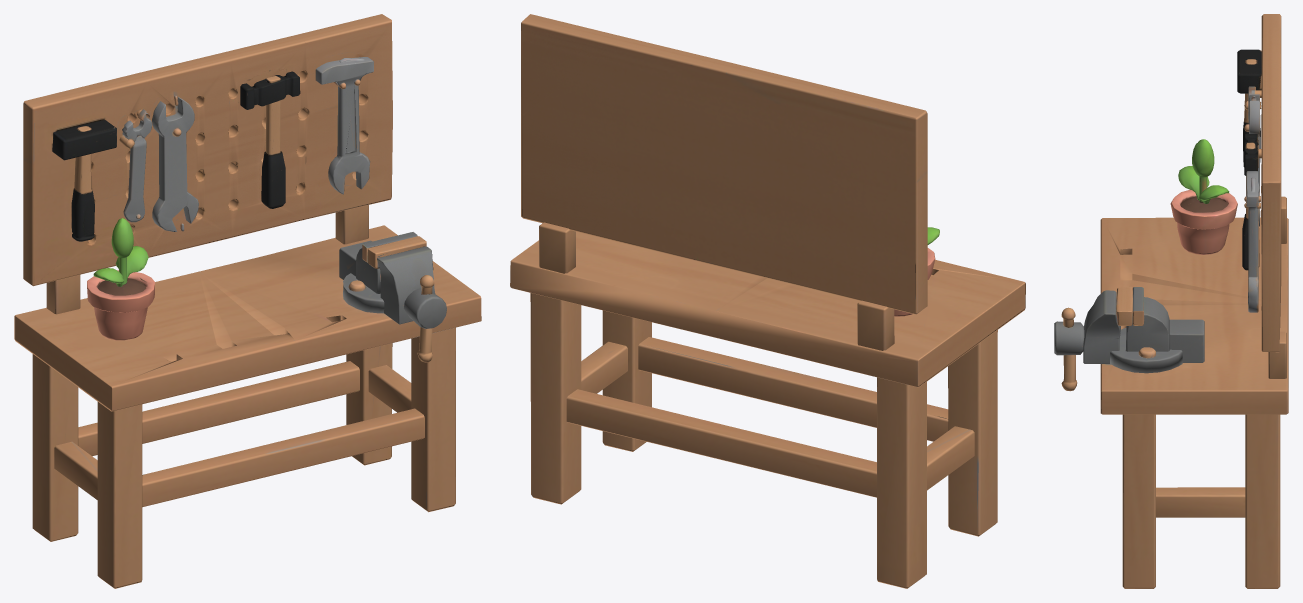
Rendered from workbench.raw.glb.
3 renders of one model, left to right at view 1: azimuth 30°, elevation 25°; view 2: azimuth 150°, elevation 25°; view 3: azimuth 270°, elevation 25°, orthographic. The views are drawn at different scales.
Size of the model in its own units: 0.8569 by 0.9526 by 0.4902.
Materials: 1 (1 with a texture image).
